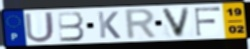B: (56, 11, 87, 43)
F: (193, 6, 222, 37)
K: (96, 11, 122, 40)
R: (124, 8, 159, 41)
U: (23, 11, 57, 44)
V: (159, 6, 192, 39)
